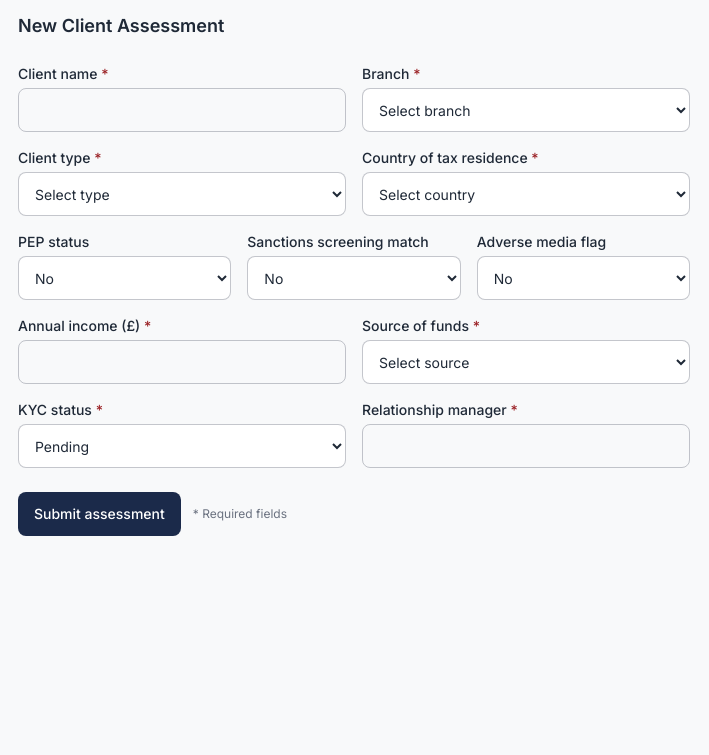
Scenario: IntakeForm — live classification › updates live classification when PEP is set to YES
Select "Netherlands" in the dropdown labelled "Country of tax residence *" at (526, 194), box [362,172,690,216]
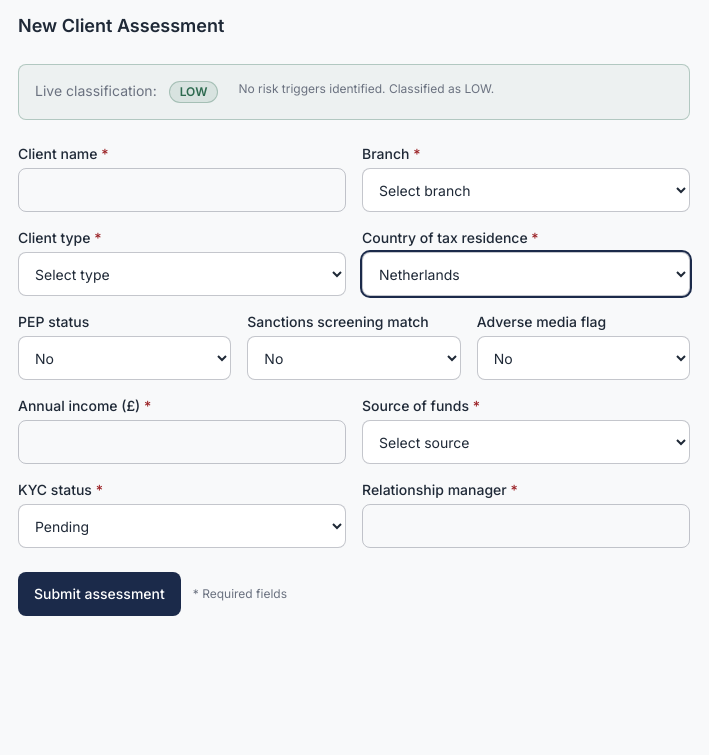
Select "Yes" in the dropdown labelled "PEP status" at (125, 358), box [18,336,231,380]
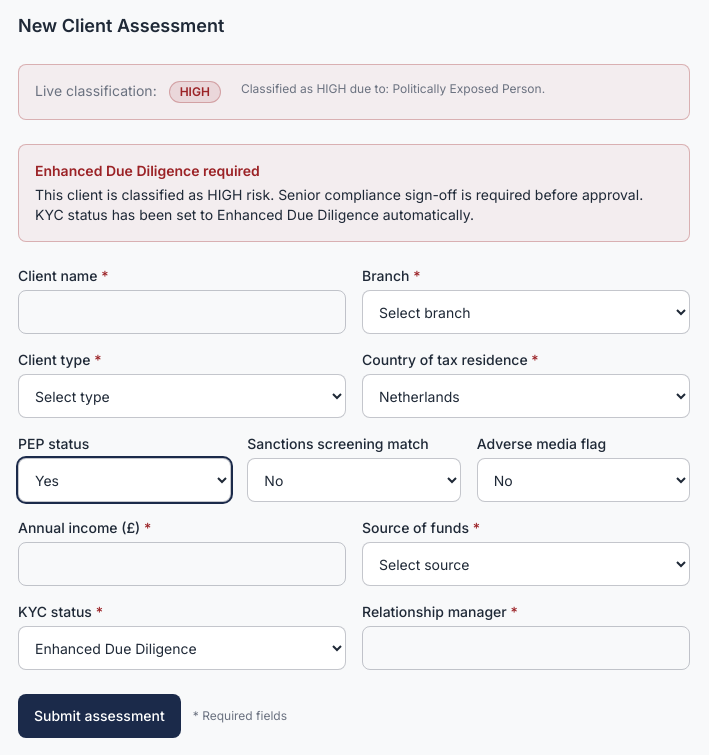
Now the text "HIGH" is shown, box [169,81,221,103]
